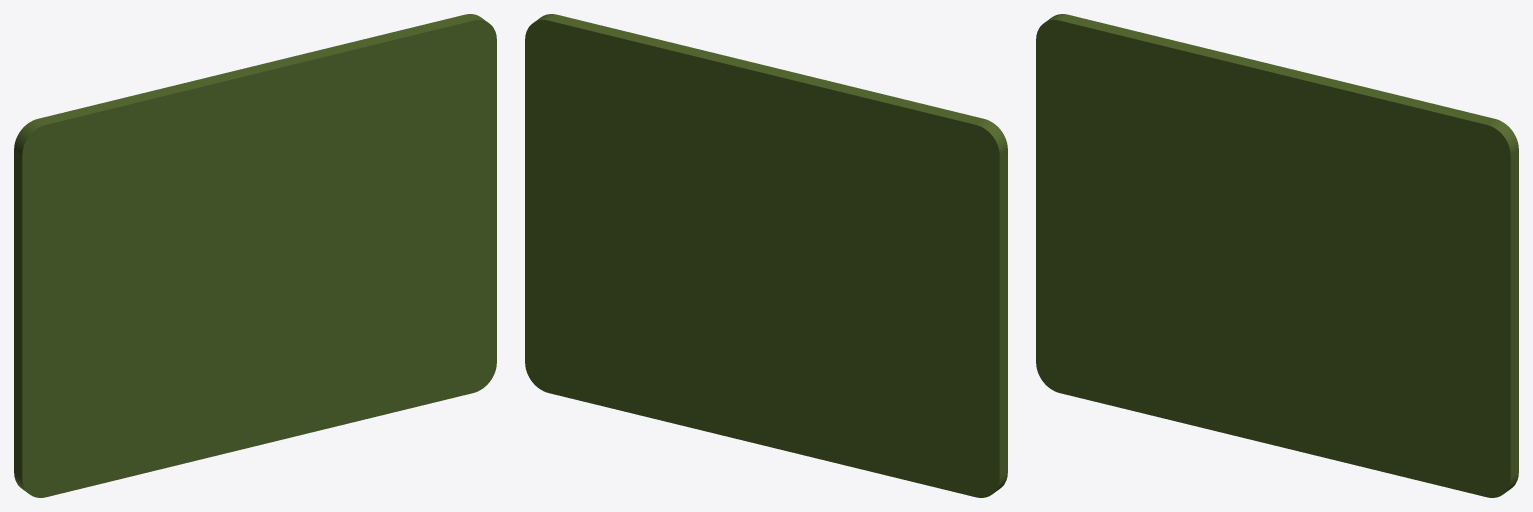
Rendered from sealmat.obj.
3 renders of one model, left to right at view 1: azimuth 30°, elevation 25°; view 2: azimuth 150°, elevation 25°; view 3: azimuth 330°, elevation 25°, orthographic.
Parts seen in each view (by area): view 1: ソリッド1; view 2: ソリッド1; view 3: ソリッド1.
Part boxes in pixels (<box>): ソリッド1: <box>14,14,496,497</box>; ソリッド1: <box>525,14,1007,497</box>; ソリッド1: <box>1036,14,1518,497</box>.
Size of the model in its own units: 0.1 by 0.075 by 0.003.
